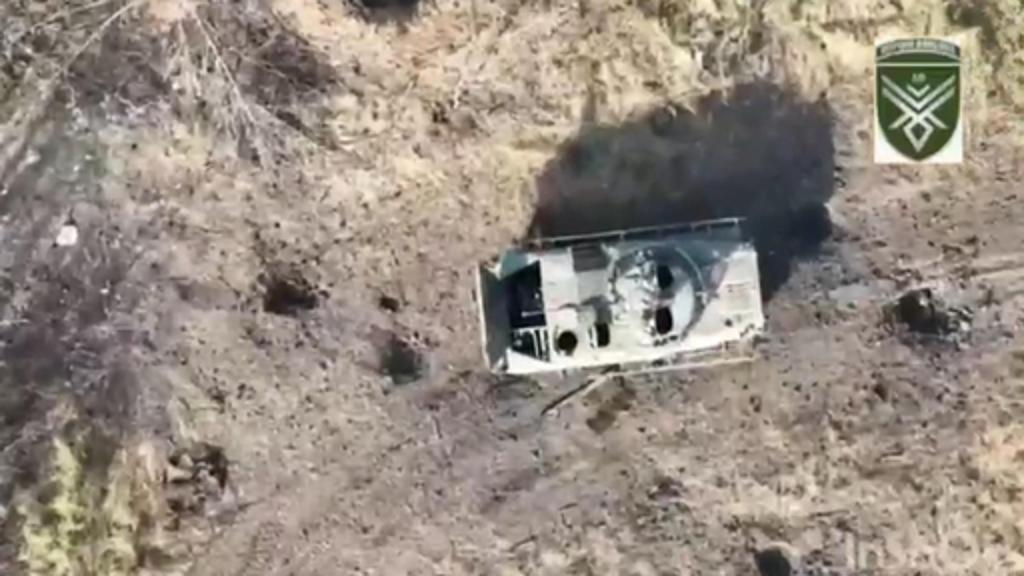APC-IFV: (466, 220, 772, 382)
